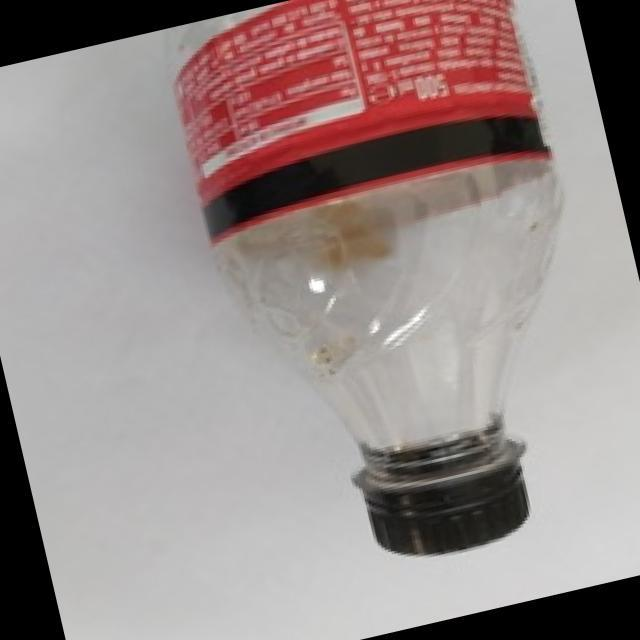good: (144, 0, 640, 618)
